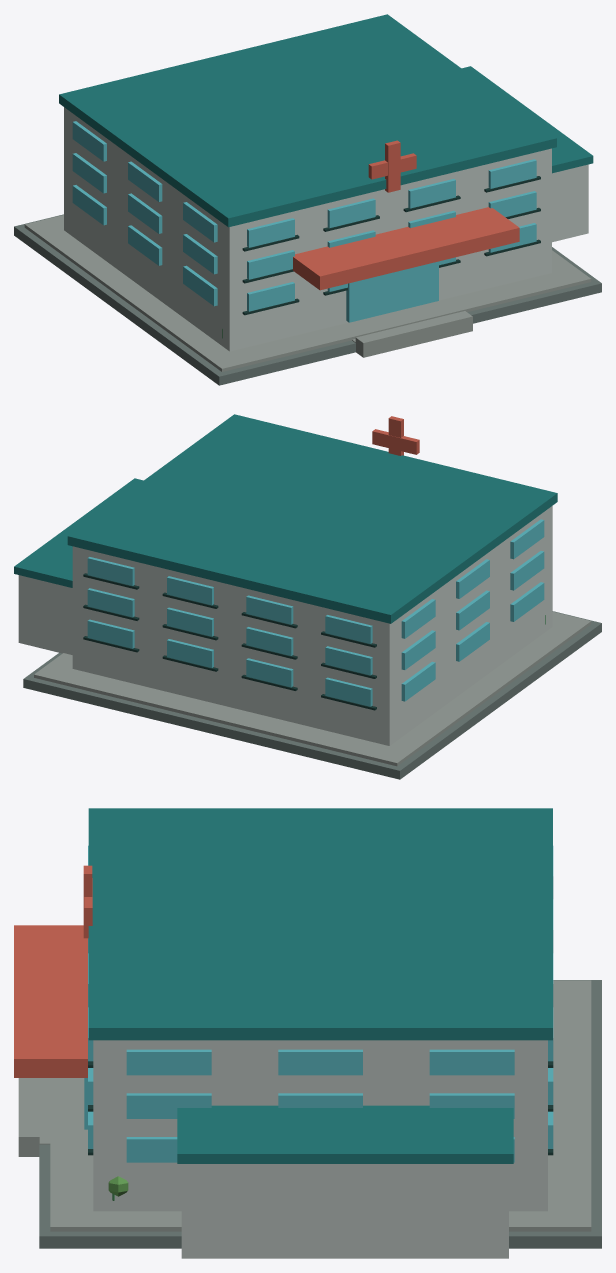
Rendered from clinic_lv2.glb.
3 renders of one model, top to bottom at view 1: azimuth 30°, elevation 25°; view 2: azimuth 150°, elevation 25°; view 3: azimuth 270°, elevation 25°, orthographic. The views are drawn at different scales.
Parts seen in each view (by area): view 1: rough, glossy; view 2: rough, glossy; view 3: rough, glossy.
Boxes of the visible parts, bbox=[...] form: rough: bbox=[14, 14, 601, 385]; glossy: bbox=[72, 121, 536, 322]; rough: bbox=[14, 414, 601, 779]; glossy: bbox=[87, 519, 544, 706]; rough: bbox=[14, 808, 601, 1258]; glossy: bbox=[84, 845, 553, 1162].
Bounding box in the file's own units: 10.87 × 4.47 × 9.51.
